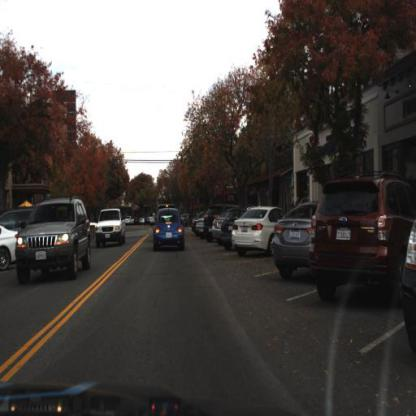car: (313, 177, 415, 303), (16, 197, 92, 284), (270, 201, 325, 284), (2, 206, 63, 271), (232, 207, 288, 257), (153, 207, 186, 252), (97, 208, 127, 249)
